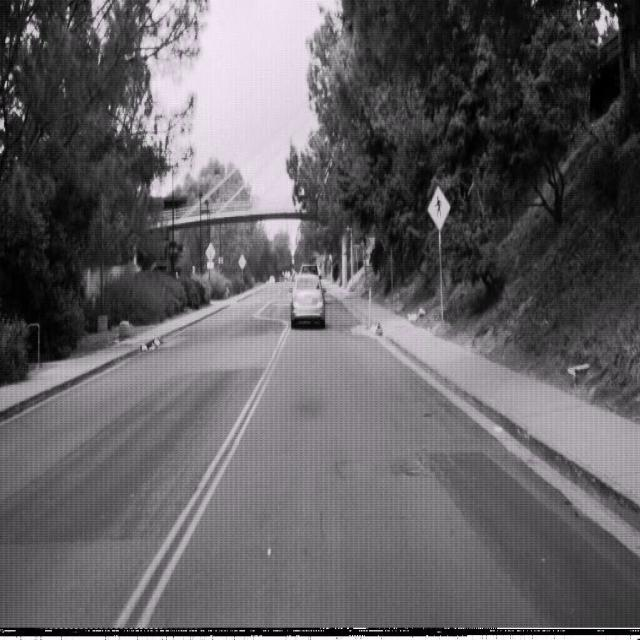pedestrianCrossing: (427, 184, 451, 230)
